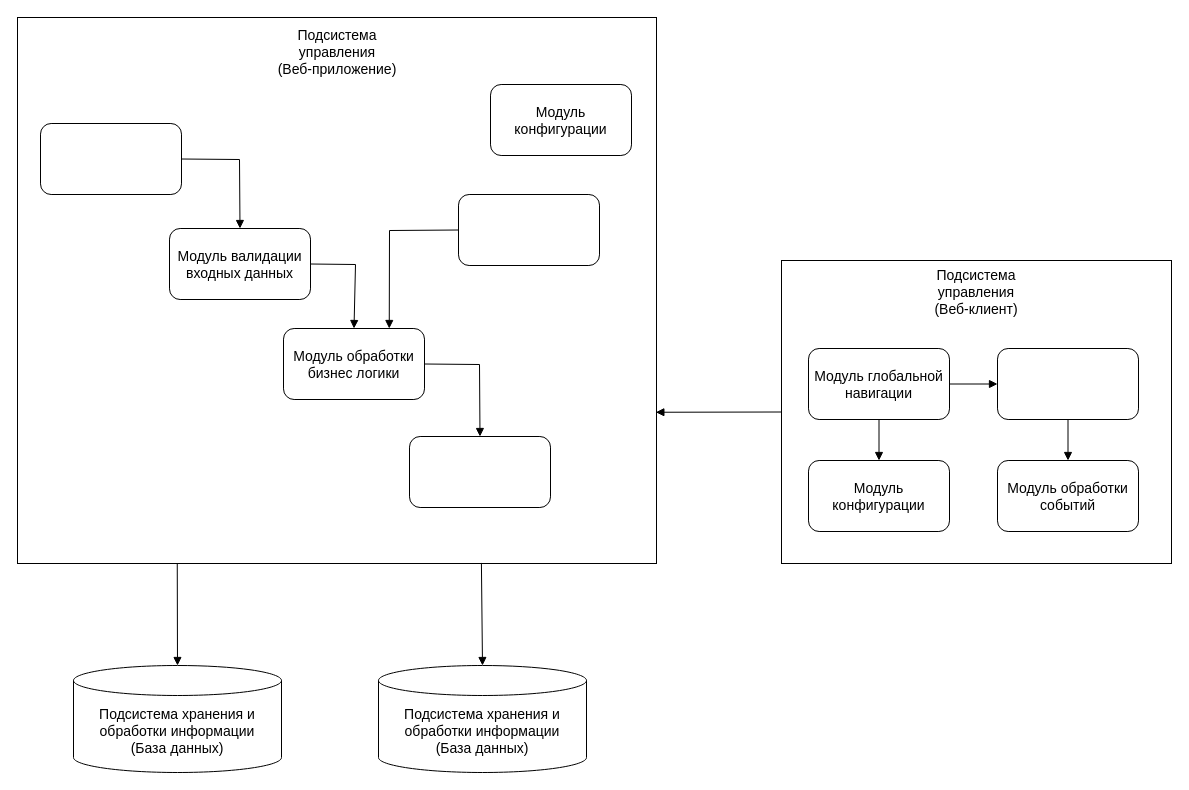
The diagram is 1189 pixels wide and 790 high, and some of its shapes have lost their labels. Here are the shapes that lost their labels. From the top down, the box of each, then its label:
(40, 122, 182, 194): Модуль обработки запросов
(458, 194, 600, 266): Модуль обработки данных
(996, 348, 1138, 420): Модуль отображения материалов
(408, 436, 550, 508): Модуль представления данных
